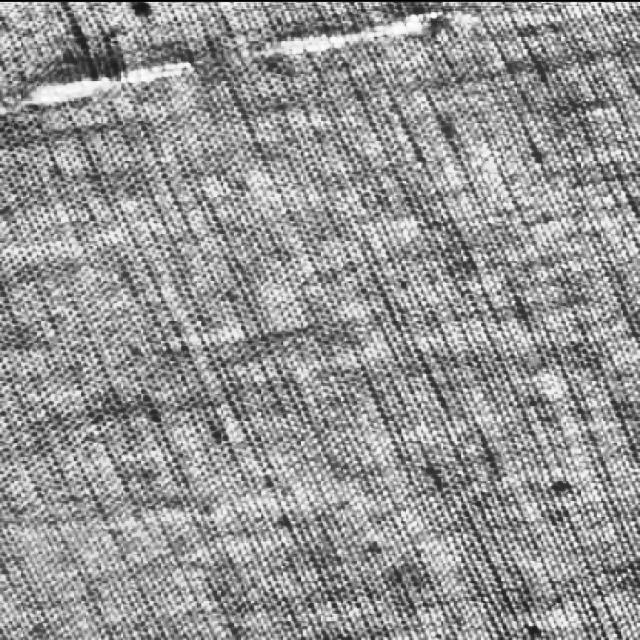thread_error: (0, 2, 449, 128)
